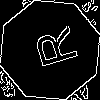R: (25, 25, 79, 73)
